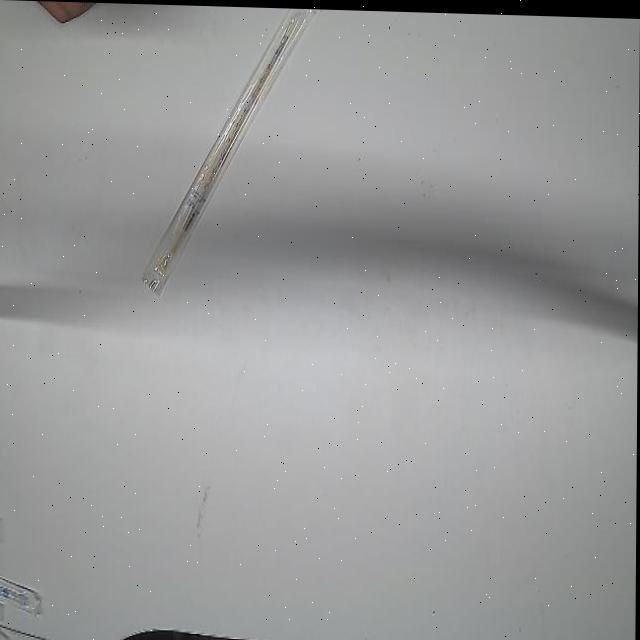Serelogical Pipet 1 mL - Sealed: (133, 3, 334, 304)
